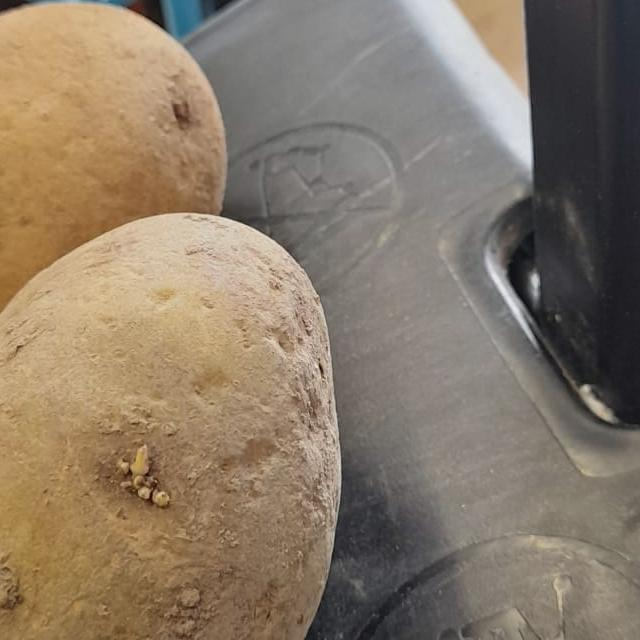potato: (0, 193, 416, 640), (0, 0, 256, 450)
